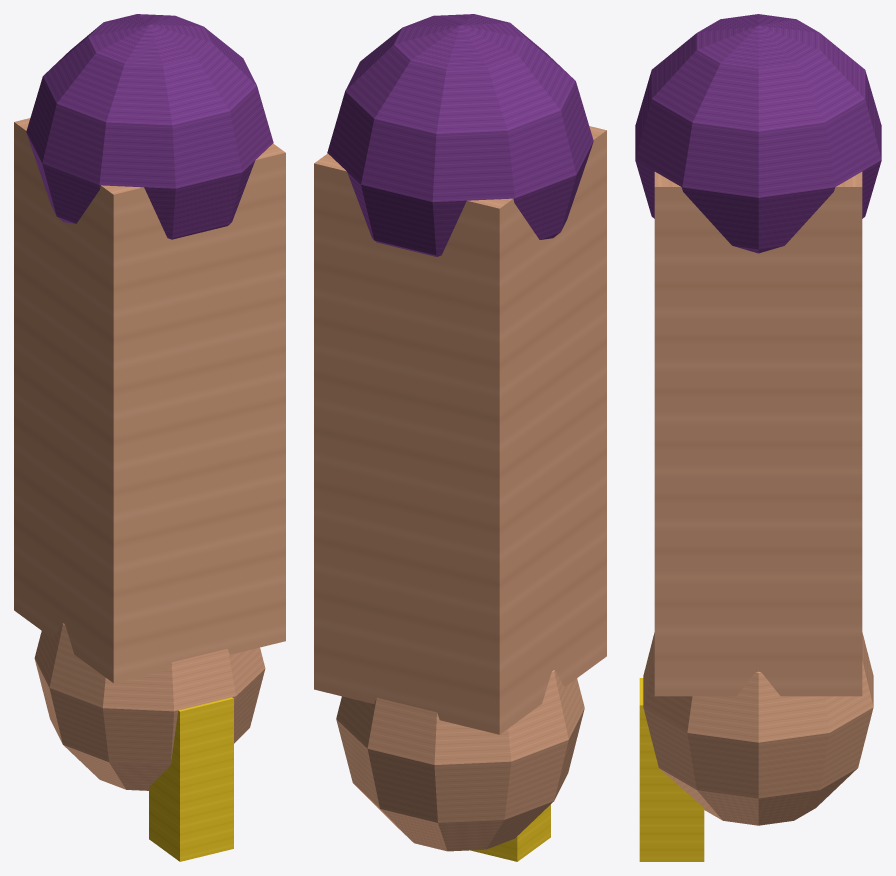
Rendered from oracion_antebrazo_der.obj.
3 views of the same model, side by side, from view 1: azimuth 30°, elevation 25°; view 2: azimuth 150°, elevation 25°; view 3: azimuth 270°, elevation 25° (orthographic). The views are drawn at different scales.
Visible parts, largest first — view 1: oracion_antebrazo_der; view 2: oracion_antebrazo_der; view 3: oracion_antebrazo_der.
Boxes of the visible parts, x1,y1,x2,y2 form: oracion_antebrazo_der: [14, 14, 285, 861]; oracion_antebrazo_der: [314, 14, 606, 861]; oracion_antebrazo_der: [635, 14, 881, 861].
Size of the model in its own units: 0.06 by 0.21 by 0.0571.
1 material, 1 textured.
